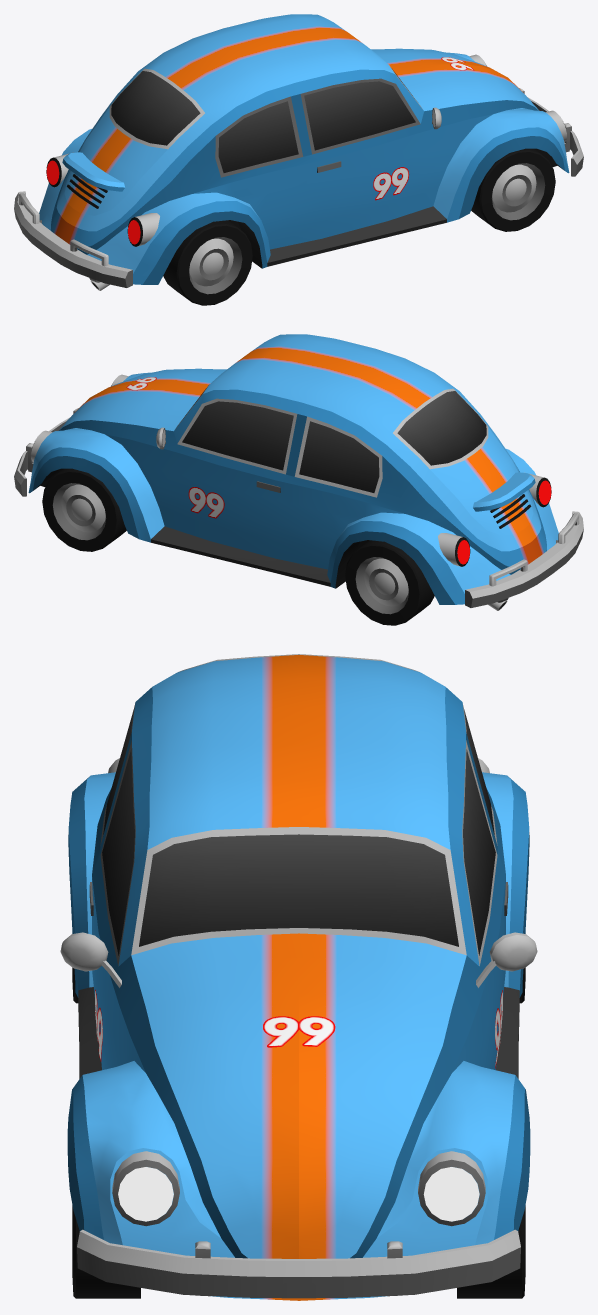
Rendered from RaceCar_097.glb.
The picture shows the model from 3 angles, top to bottom: view 1: azimuth 30°, elevation 25°; view 2: azimuth 150°, elevation 25°; view 3: azimuth 270°, elevation 25°; orthographic projection. The views are drawn at different scales.
Visible parts, largest first — view 1: RaceCar_097, wheel_3_RaceCar_097_Wheel_2R, wheel_1_RaceCar_097_Wheel_1R; view 2: RaceCar_097, wheel_2_RaceCar_097_Wheel_2L, wheel_0_RaceCar_097_Wheel_1L; view 3: RaceCar_097, wheel_1_RaceCar_097_Wheel_1R, wheel_0_RaceCar_097_Wheel_1L.
Boxes of the visible parts, x1=… form: RaceCar_097: x1=14, y1=14, x2=583, y2=290; wheel_3_RaceCar_097_Wheel_2R: x1=163, y1=220, x2=252, y2=305; wheel_1_RaceCar_097_Wheel_1R: x1=471, y1=148, x2=555, y2=231; RaceCar_097: x1=14, y1=334, x2=583, y2=610; wheel_2_RaceCar_097_Wheel_2L: x1=345, y1=540, x2=434, y2=625; wheel_0_RaceCar_097_Wheel_1L: x1=42, y1=468, x2=126, y2=551; RaceCar_097: x1=60, y1=654, x2=537, y2=1300; wheel_1_RaceCar_097_Wheel_1R: x1=72, y1=1205, x2=140, y2=1298; wheel_0_RaceCar_097_Wheel_1L: x1=457, y1=1205, x2=525, y2=1298.
Bounding box in the file's own units: 4.42 × 1.62 × 1.8.
4 materials, 4 textured.
